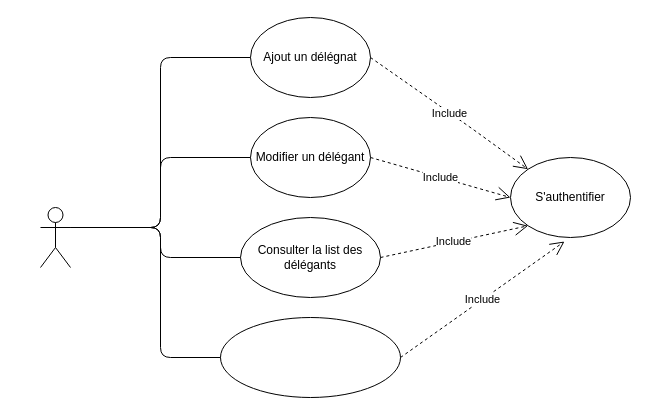
Some shapes in this 648 by 415 pixel diagram are drawn without their labels. The shapes that lost their labels are listed below. From the top down, each one's centre as x and y in pixels, then its label:
At (55,237): "Administrateur".
At (310,357): "Chercher et consulter un délégant".
